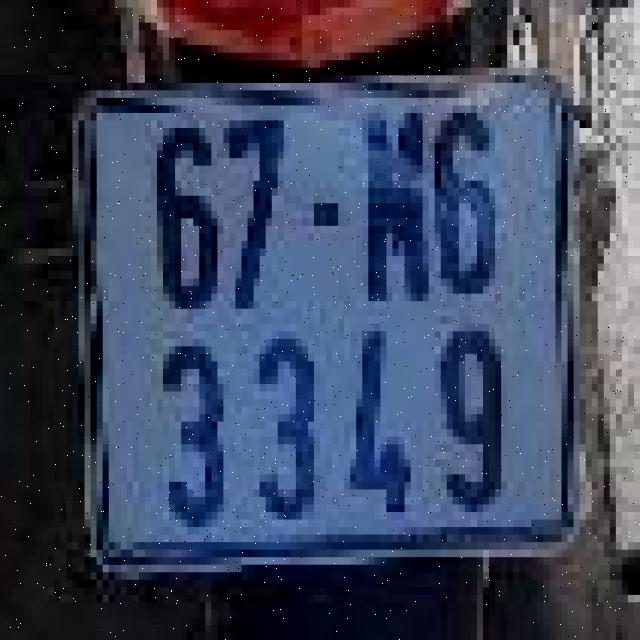3: (148, 331, 232, 535), (248, 335, 320, 538)
4: (335, 312, 426, 538)
6: (136, 109, 220, 320), (435, 98, 501, 309)
7: (217, 98, 290, 331)
9: (432, 320, 516, 553)
M: (359, 98, 432, 309)
